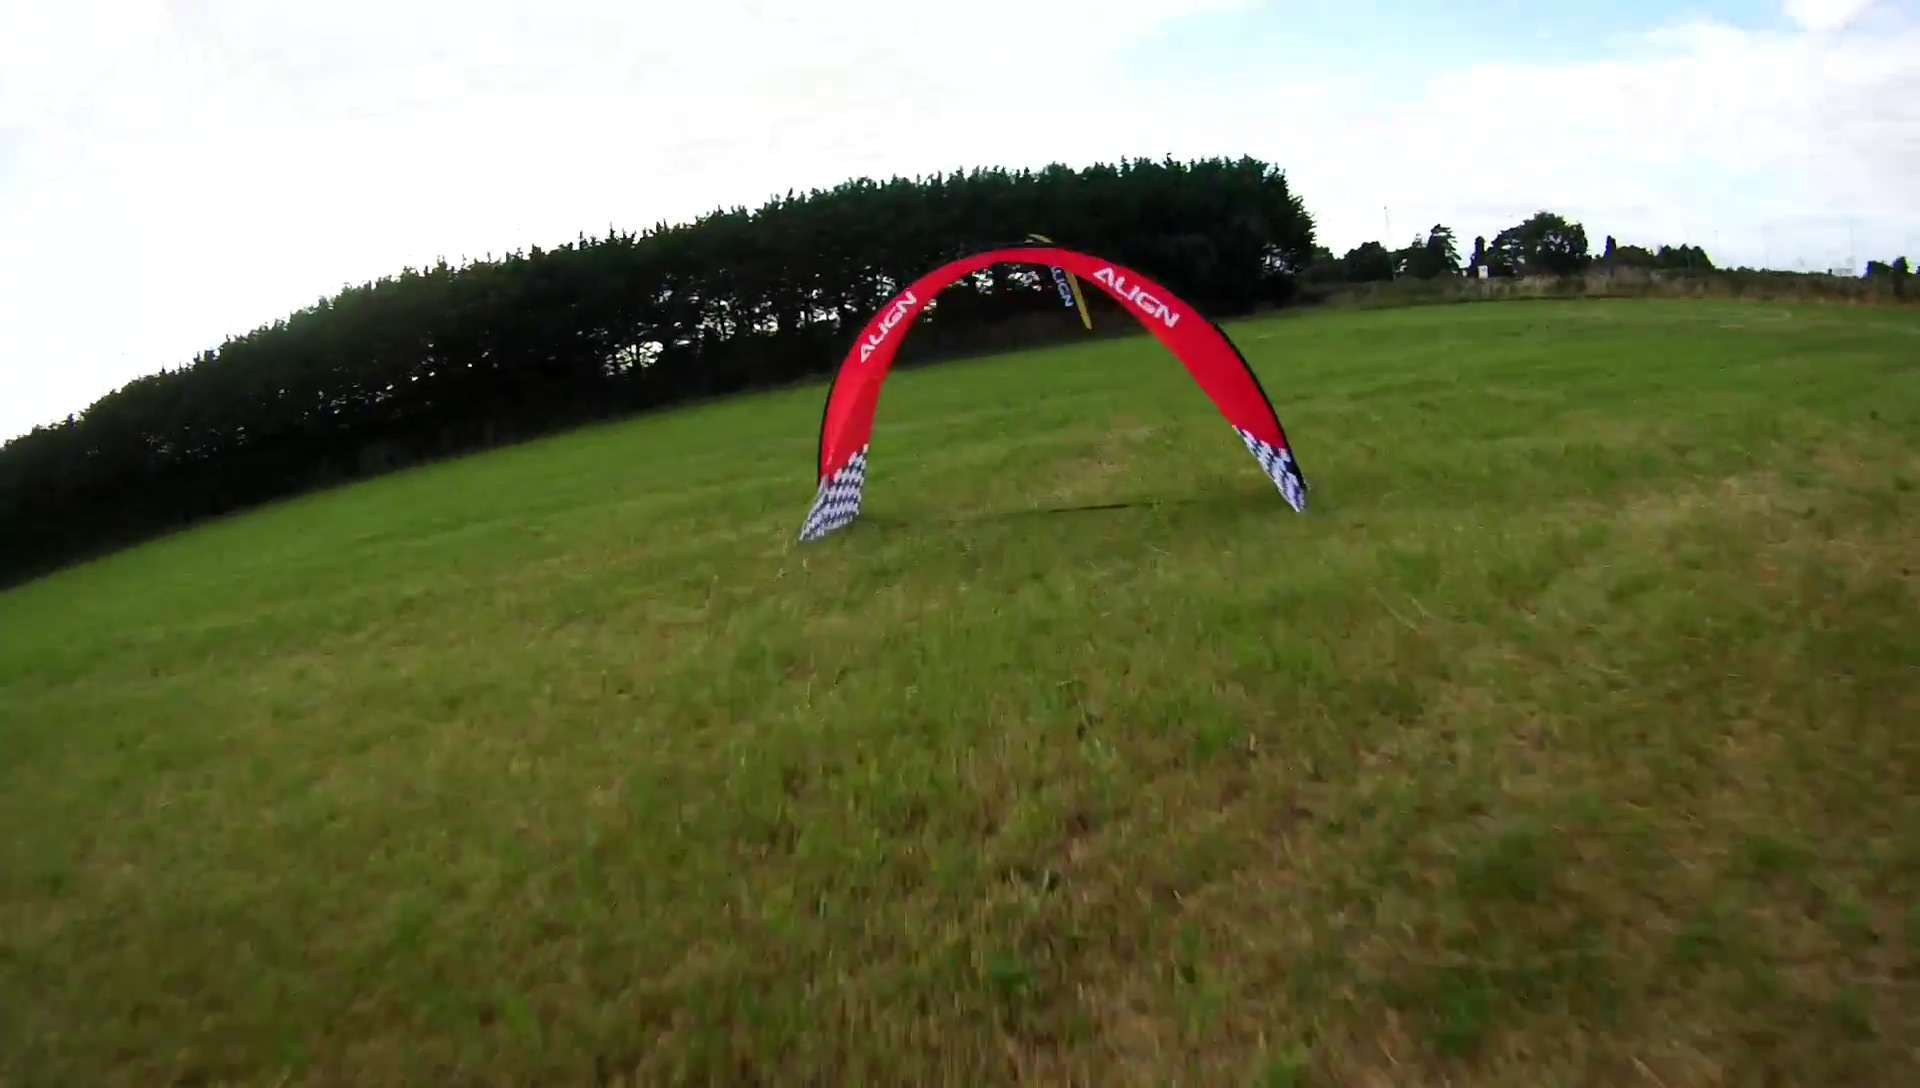gate: (799, 243, 1317, 543)
